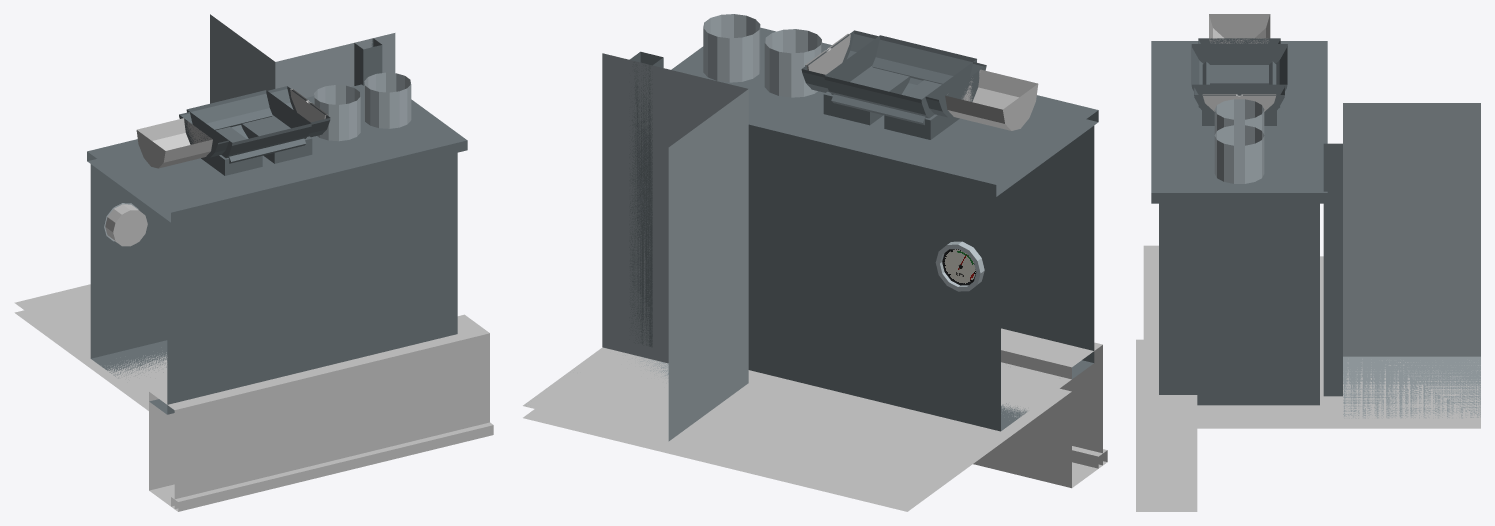
The model's file is cell_23.obj.
The picture shows the model from 3 angles, left to right: view 1: azimuth 30°, elevation 25°; view 2: azimuth 150°, elevation 25°; view 3: azimuth 270°, elevation 25°; orthographic projection. The views are drawn at different scales.
Bounding box in the file's own units: 1 × 1 × 0.9.
